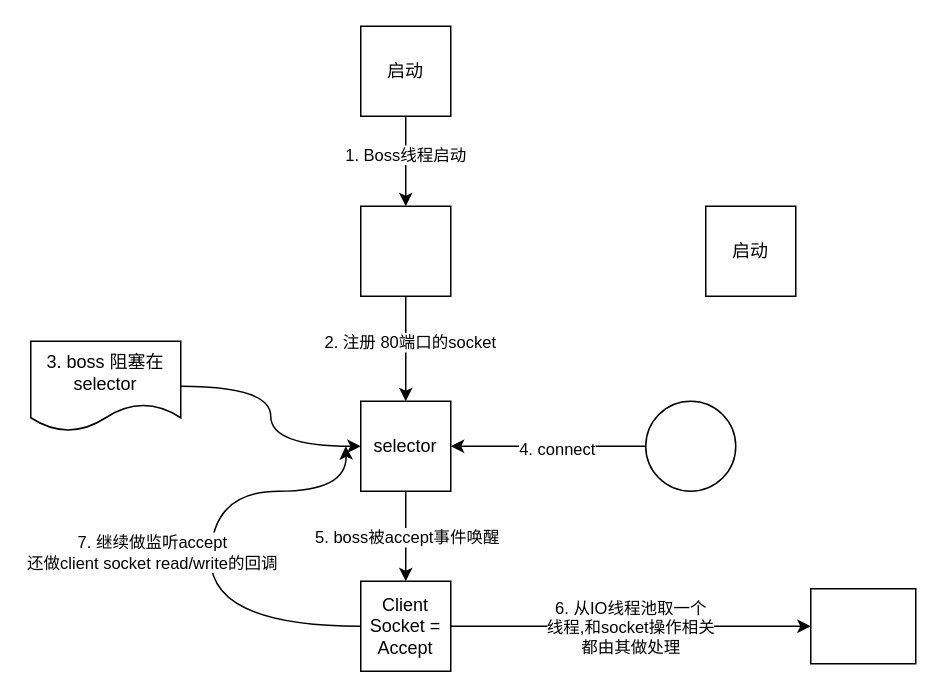
Image size: 942x698. Some labels were removed from this diagram. Here are the shapes that lost their labels. From the top down, the centre of each, then its label:
At [405,250]: "listen 80".
At [690,445]: "Client".
At [862,625]: "IO线程绑定".
